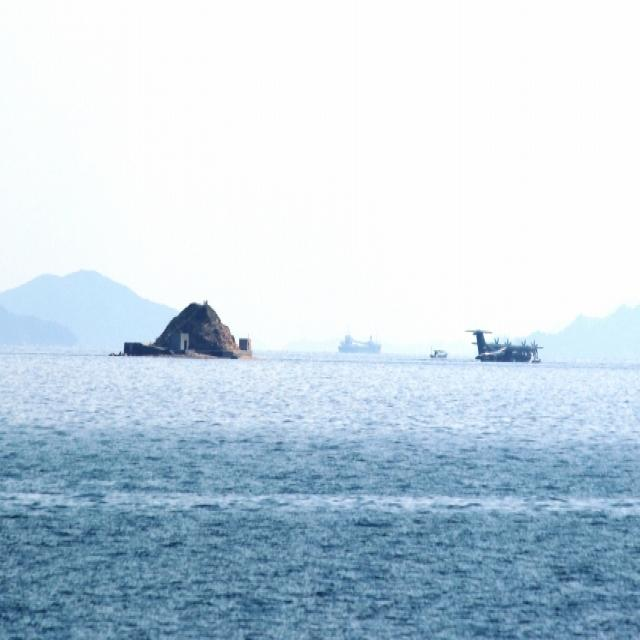MIL_Plane: (465, 329, 545, 364)
